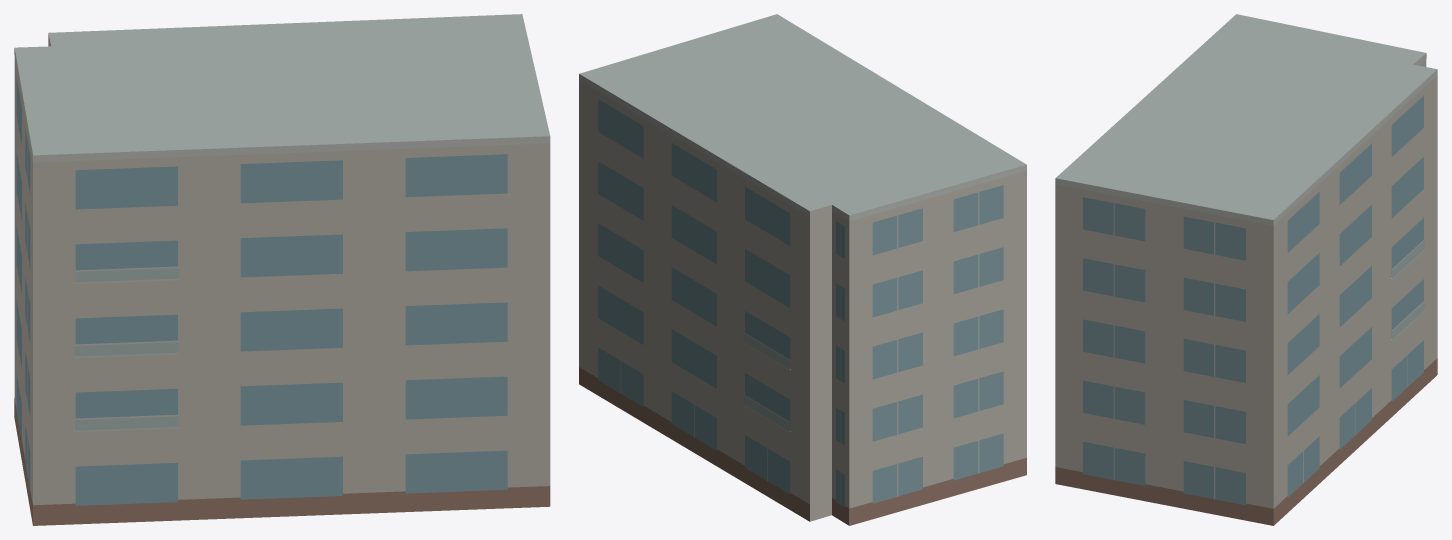
Rendered from survey-upis-32682155.glb.
The picture shows the model from 3 angles, left to right: view 1: azimuth 30°, elevation 25°; view 2: azimuth 150°, elevation 25°; view 3: azimuth 270°, elevation 25°; orthographic projection. The views are drawn at different scales.
Parts seen in each view (by area): view 1: survey-upis-32682155.tmp; view 2: survey-upis-32682155.tmp; view 3: survey-upis-32682155.tmp.
Part boxes in pixels (<box>): survey-upis-32682155.tmp: <box>14,14,550,525</box>; survey-upis-32682155.tmp: <box>579,14,1026,525</box>; survey-upis-32682155.tmp: <box>1055,14,1437,525</box>.
Bounding box in the file's own units: 18.37 × 12.7 × 14.39.
